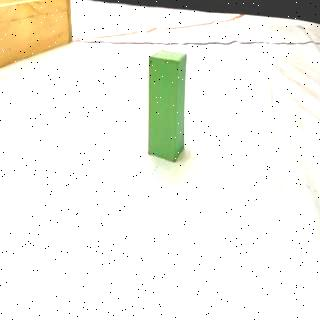greenbox: (148, 47, 188, 163)
